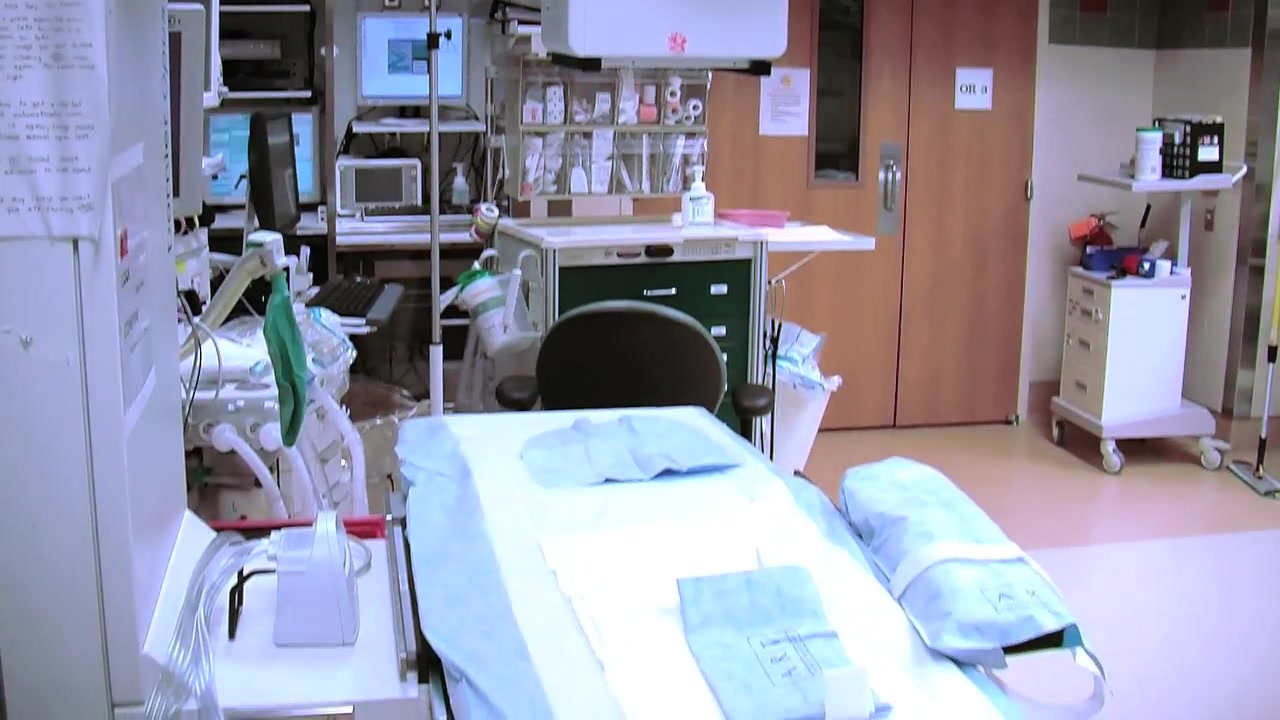bedside_monitor: (355, 11, 470, 106), (334, 158, 421, 217)
breathing_tube: (216, 395, 372, 514)
cabinet: (511, 55, 715, 201)
chair: (496, 307, 778, 426)
computer: (204, 106, 325, 208), (241, 111, 305, 235)
dispenser: (679, 169, 715, 227)
door_handle: (883, 159, 899, 214)
handle: (641, 288, 680, 297)
iv_pole: (410, 1, 451, 416)
keyboard: (306, 270, 390, 324)
medical_drawer: (498, 222, 765, 420), (1048, 259, 1191, 422)
operating_bed: (377, 412, 1106, 720)
